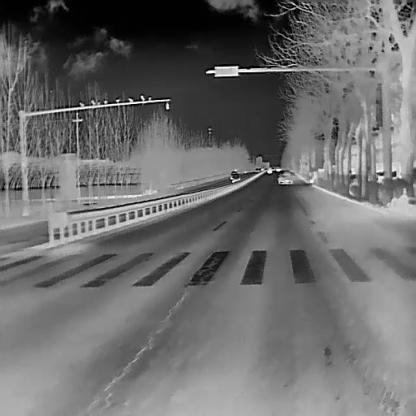car: (276, 169, 294, 184), (230, 173, 241, 184), (229, 170, 237, 180), (266, 166, 272, 173), (257, 167, 261, 172), (254, 167, 258, 172)
